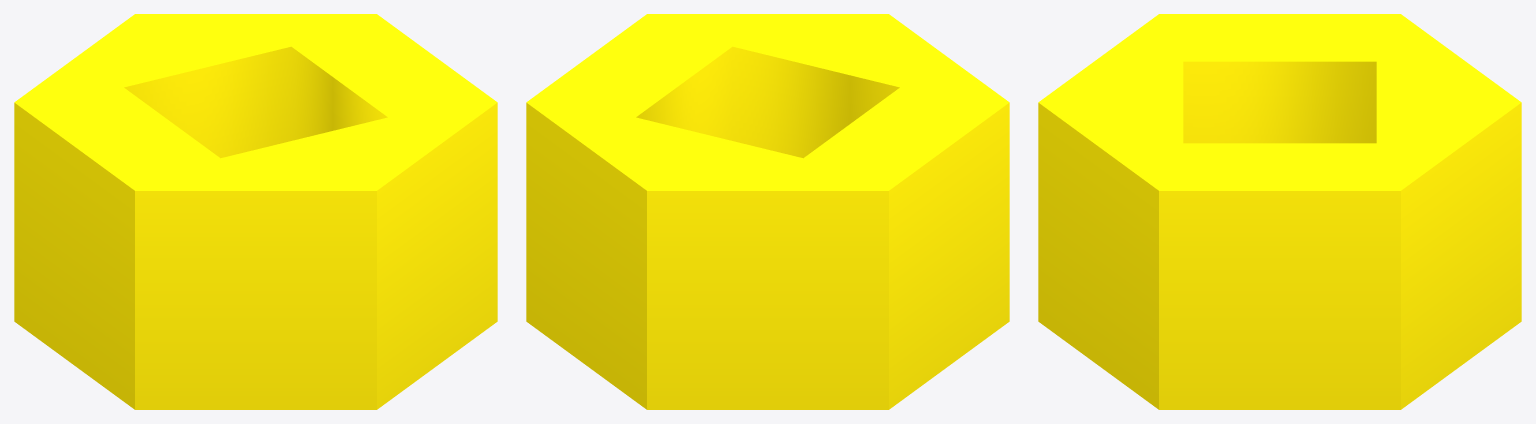
Rendered from gold-coin.glb.
3 renders of one model, left to right at view 1: azimuth 30°, elevation 25°; view 2: azimuth 150°, elevation 25°; view 3: azimuth 270°, elevation 25°, orthographic.
Visible parts, largest first — view 1: debris-nut; view 2: debris-nut; view 3: debris-nut.
Boxes of the visible parts, x1,y1,x2,y2 form: debris-nut: [14, 14, 497, 409]; debris-nut: [526, 14, 1009, 409]; debris-nut: [1038, 14, 1521, 409].
Size of the model in its own units: 0.1732 by 0.1 by 0.2.
Materials: 1 (1 with a texture image).
